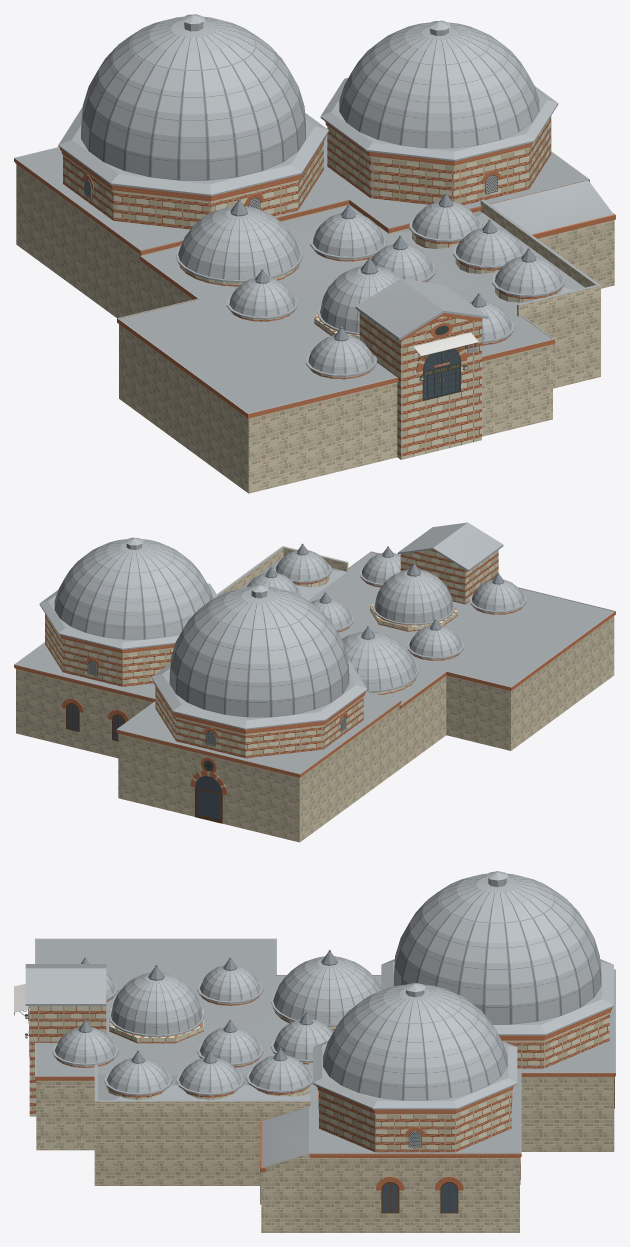
The model's file is orhan-bey-hamami_v05.glb.
3 renders of one model, top to bottom at view 1: azimuth 30°, elevation 25°; view 2: azimuth 150°, elevation 25°; view 3: azimuth 270°, elevation 25°, orthographic. The views are drawn at different scales.
Parts seen in each view (by area): view 1: Hamam_Sicaklik, Kubbe_Sogukluk_Erkek, Kubbe_Sogukluk_Kadin, Kubbe_Halvetler, Hamam_Giris, Hamam_Sogukluk_Erkek, Hamam_Detay, Kubbe_Iliklik, Hamam_Giris_Kadin, Kubbe_Sicaklik, Hamam_Sogukluk_Kadin; view 2: Kubbe_Sogukluk_Erkek, Hamam_Sicaklik, Hamam_Sogukluk_Erkek, Kubbe_Sogukluk_Kadin, Kubbe_Halvetler, Hamam_Detay, Hamam_Sogukluk_Kadin, Hamam_Giris, Kubbe_Sicaklik, Kubbe_Iliklik; view 3: Hamam_Sicaklik, Kubbe_Sogukluk_Erkek, Kubbe_Sogukluk_Kadin, Kubbe_Halvetler, Hamam_Sogukluk_Kadin, Hamam_Sogukluk_Erkek, Hamam_Detay, Hamam_Giris, Hamam_Giris_Kadin, Kubbe_Sicaklik, Kubbe_Iliklik.
Part boxes in pixels (<box>): Hamam_Sicaklik: <box>119,205,600,493</box>; Kubbe_Sogukluk_Erkek: <box>58,16,328,229</box>; Kubbe_Sogukluk_Kadin: <box>320,22,558,204</box>; Kubbe_Halvetler: <box>226,199,600,379</box>; Hamam_Giris: <box>355,278,488,459</box>; Hamam_Sogukluk_Erkek: <box>16,147,365,318</box>; Hamam_Detay: <box>14,14,589,418</box>; Kubbe_Iliklik: <box>176,206,302,286</box>; Hamam_Giris_Kadin: <box>490,180,615,288</box>; Kubbe_Sicaklik: <box>314,266,402,339</box>; Hamam_Sogukluk_Kadin: <box>324,134,586,233</box>; Kubbe_Sogukluk_Erkek: <box>151,586,367,758</box>; Hamam_Sicaklik: <box>308,552,614,768</box>; Hamam_Sogukluk_Erkek: <box>118,692,399,842</box>; Kubbe_Sogukluk_Kadin: <box>39,539,217,686</box>; Kubbe_Halvetler: <box>217,546,526,660</box>; Hamam_Detay: <box>14,537,615,823</box>; Hamam_Sogukluk_Kadin: <box>16,643,155,758</box>; Hamam_Giris: <box>397,522,503,604</box>; Kubbe_Sicaklik: <box>370,569,457,631</box>; Kubbe_Iliklik: <box>341,631,418,694</box>; Hamam_Sicaklik: <box>36,939,381,1185</box>; Kubbe_Sogukluk_Erkek: <box>381,873,613,1068</box>; Kubbe_Sogukluk_Kadin: <box>313,984,517,1152</box>; Kubbe_Halvetler: <box>52,965,333,1112</box>; Hamam_Sogukluk_Kadin: <box>311,1063,519,1232</box>; Hamam_Sogukluk_Erkek: <box>517,970,614,1151</box>; Hamam_Detay: <box>35,871,615,1213</box>; Hamam_Giris: <box>14,964,106,1116</box>; Hamam_Giris_Kadin: <box>260,1107,310,1232</box>; Kubbe_Sicaklik: <box>109,972,204,1043</box>; Kubbe_Iliklik: <box>271,956,381,1030</box>.
Bounding box in the file's own units: 31.62 × 15.2 × 36.23.
15 materials, 5 textured.
